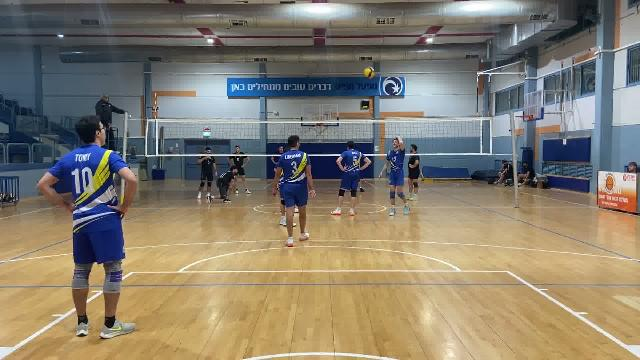ball: (363, 65, 375, 81)
